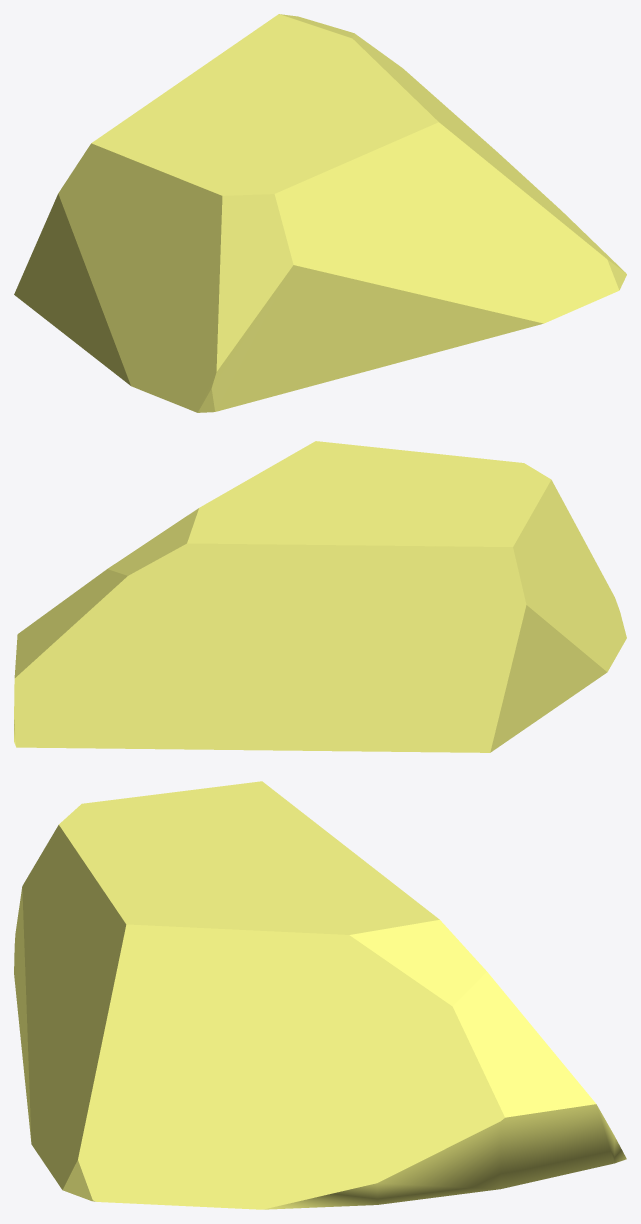
File: breakableCenter_cell_001.fbx
3 views of the same model, one above another, from view 1: azimuth 30°, elevation 25°; view 2: azimuth 150°, elevation 25°; view 3: azimuth 270°, elevation 25° (orthographic). The views are drawn at different scales.
Visible parts, largest first — view 1: breakableCenter_cell.001; view 2: breakableCenter_cell.001; view 3: breakableCenter_cell.001.
Boxes of the visible parts, x1,y1,x2,y2 form: breakableCenter_cell.001: (14, 14, 626, 412); breakableCenter_cell.001: (14, 441, 626, 752); breakableCenter_cell.001: (14, 781, 626, 1209).
Bounding box in the file's own units: 40.75 × 14.14 × 41.4.
